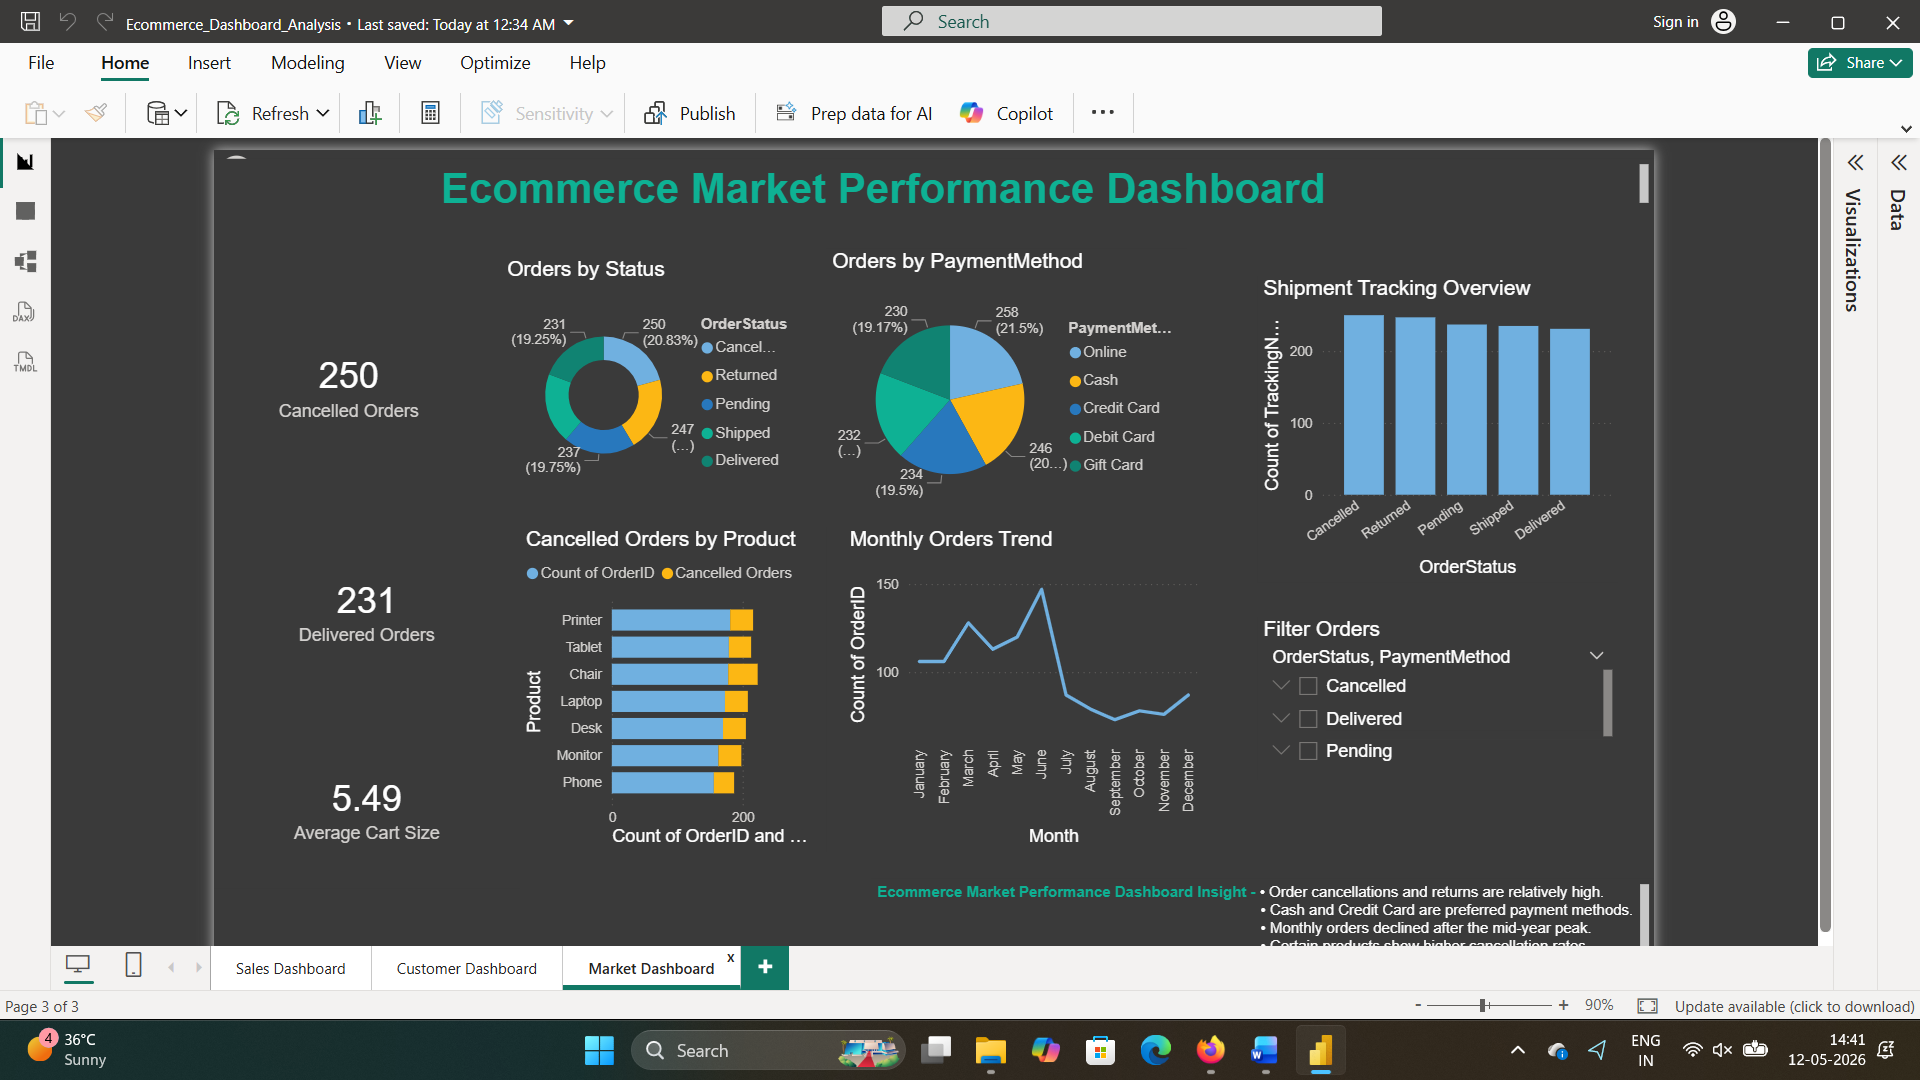

This screenshot's page, from the dashboard's own definition file:
{"tool":"powerbi","page":{"name":"Market Dashboard","canvas":[1280,720],"ordinal":2},"visuals":[{"type":"card","fields":{"Values":["cleaned_orders.Cancelled Orders"]},"box":[0,64,240,288],"z":0},{"type":"actionButton","box":[0,0,100,40],"z":1},{"type":"card","fields":{"Values":["cleaned_orders.Delivered Orders"]},"box":[0,272,272,272],"z":2},{"type":"card","fields":{"Values":["cleaned_orders.Average Cart Size"]},"box":[0,512,272,144],"z":3},{"type":"donutChart","title":"Orders by Status","fields":{"Category":["cleaned_orders.OrderStatus"],"Y":["CountNonNull(cleaned_orders.OrderID)"]},"box":[256,96,272,224],"z":4},{"type":"barChart","title":"Cancelled Orders by Product","fields":{"Category":["cleaned_orders.Product"],"Y":["CountNonNull(cleaned_orders.OrderID)","cleaned_orders.Cancelled Orders"]},"box":[272,336,272,288],"z":5},{"type":"pieChart","title":"Orders by PaymentMethod","fields":{"Category":["cleaned_orders.PaymentMethod"],"Y":["CountNonNull(cleaned_orders.OrderID)"]},"box":[544,88,320,248],"z":6},{"type":"lineChart","title":"Monthly Orders Trend","fields":{"Category":["cleaned_orders.Month"],"Y":["CountNonNull(cleaned_orders.OrderID)"]},"box":[560,336,320,288],"z":7},{"type":"columnChart","title":"Shipment Tracking Overview","fields":{"Category":["cleaned_orders.OrderStatus"],"Y":["CountNonNull(cleaned_orders.TrackingNumber)"]},"box":[928,112,320,272],"z":8},{"type":"slicer","title":"Filter Orders","fields":{"Values":["cleaned_orders.OrderStatus","cleaned_orders.PaymentMethod"]},"box":[928,416,320,144],"z":9},{"type":"textbox","box":[0,8,1280,48],"z":10},{"type":"textbox","box":[584,648,696,72],"z":11}]}

Visuals, with their boxes on the page's 1280x720 design canvas (x1, y1, x2, y2). These are canvas units, not pixel positions in the 1920x1080 screenshot, which may show the page scaled, cropped or inside an application window:
card - cleaned_orders.Cancelled Orders: box(0, 64, 240, 352)
actionButton: box(0, 0, 100, 40)
card - cleaned_orders.Delivered Orders: box(0, 272, 272, 544)
card - cleaned_orders.Average Cart Size: box(0, 512, 272, 656)
"Orders by Status" donutChart: box(256, 96, 528, 320)
"Cancelled Orders by Product" barChart: box(272, 336, 544, 624)
"Orders by PaymentMethod" pieChart: box(544, 88, 864, 336)
"Monthly Orders Trend" lineChart: box(560, 336, 880, 624)
"Shipment Tracking Overview" columnChart: box(928, 112, 1248, 384)
"Filter Orders" slicer: box(928, 416, 1248, 560)
textbox: box(0, 8, 1280, 56)
textbox: box(584, 648, 1280, 720)
